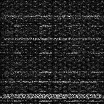lte: (1, 93, 104, 98), (1, 36, 104, 41), (1, 79, 104, 83)
